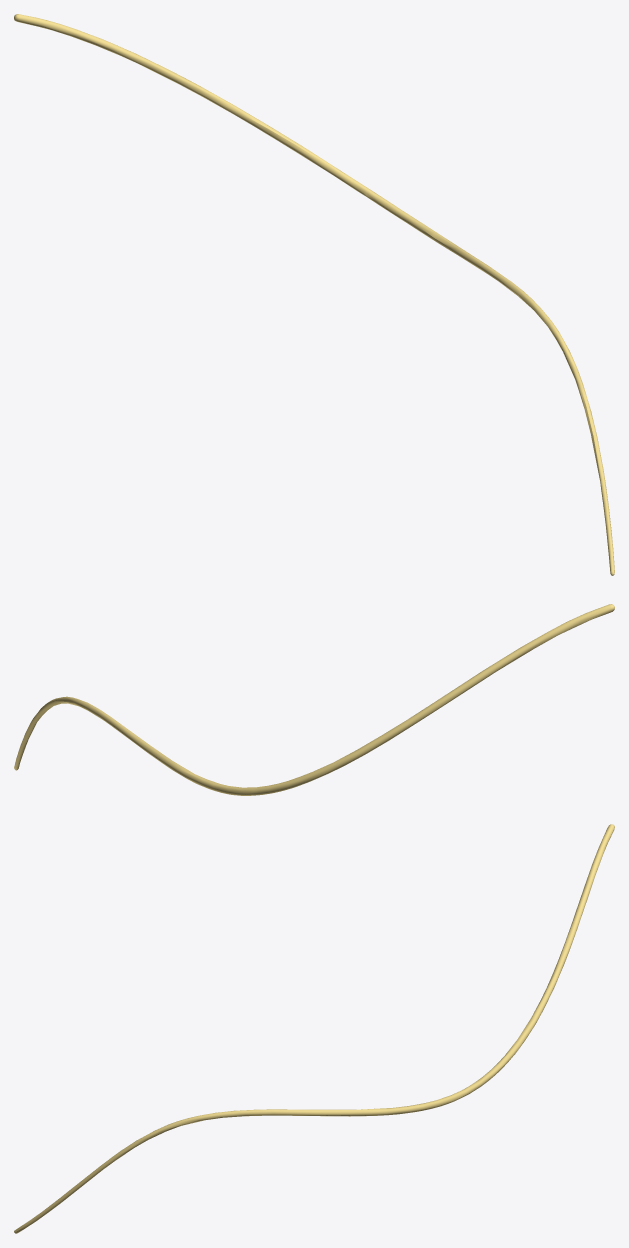
Rendered from fma52798_fj3993.glb.
3 views of the same model, one above another, from view 1: azimuth 30°, elevation 25°; view 2: azimuth 210°, elevation 25°; view 3: azimuth 270°, elevation 25° (orthographic). The views are drawn at different scales.
Parts seen in each view (by area): view 1: FMA52798_FJ3993; view 2: FMA52798_FJ3993; view 3: FMA52798_FJ3993.
Part boxes in pixels (x1,y1,x2,y2): FMA52798_FJ3993: [14, 14, 614, 575]; FMA52798_FJ3993: [14, 604, 614, 795]; FMA52798_FJ3993: [14, 824, 614, 1233].
Bounding box in the file's own units: 0.0203 × 0.0236 × 0.0416.
